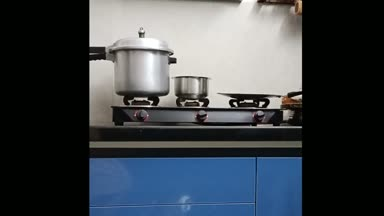flame_gas_off: (234, 99, 270, 123), (177, 100, 212, 123)
noflame_gason: (124, 95, 159, 122)
